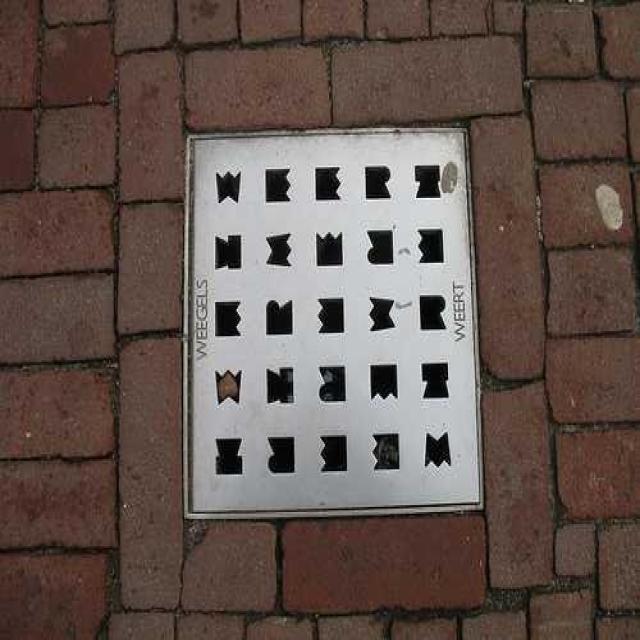manhole: (182, 121, 485, 522)
